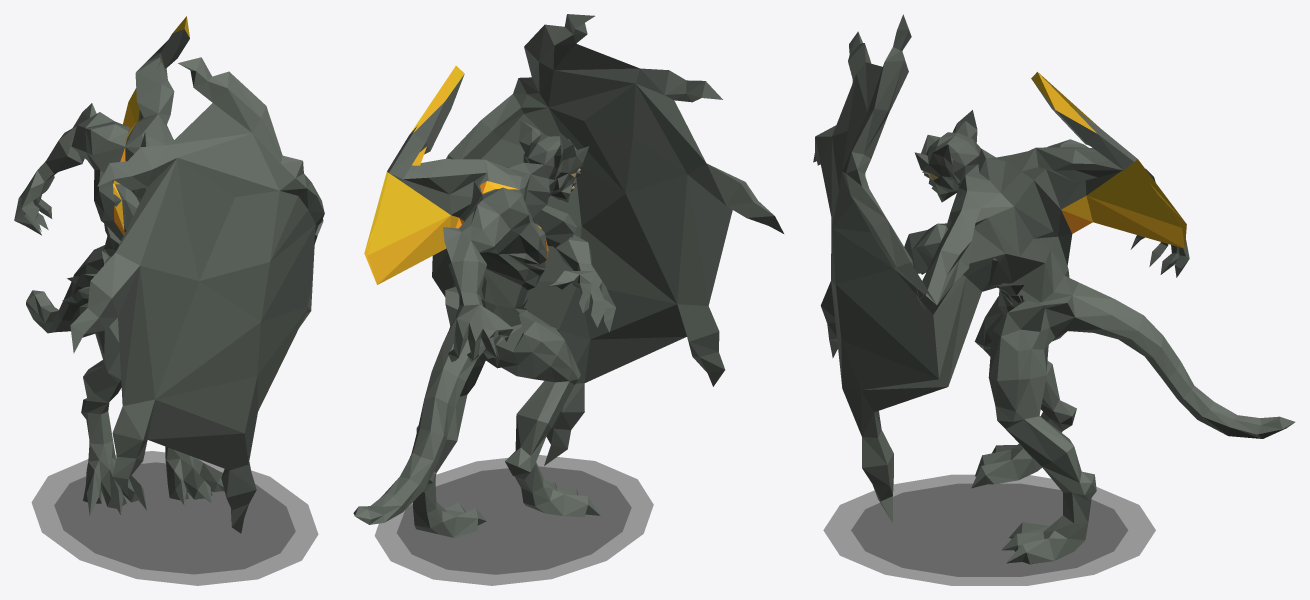
Rendered from dusk.gltf.
The picture shows the model from 3 angles, left to right: view 1: azimuth 30°, elevation 25°; view 2: azimuth 150°, elevation 25°; view 3: azimuth 270°, elevation 25°; orthographic projection. The views are drawn at different scales.
Size of the model in its own units: 379 by 585 by 514.
2 materials, 2 textured.
